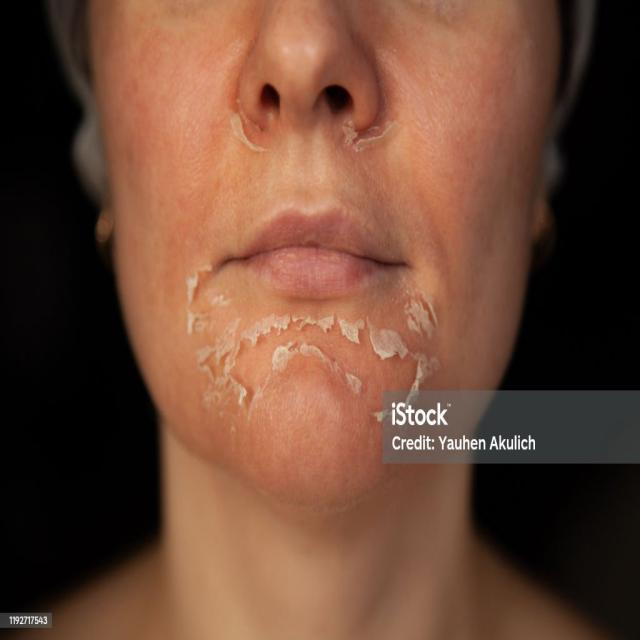dry: (163, 252, 456, 456), (341, 116, 453, 214), (202, 85, 308, 188)
